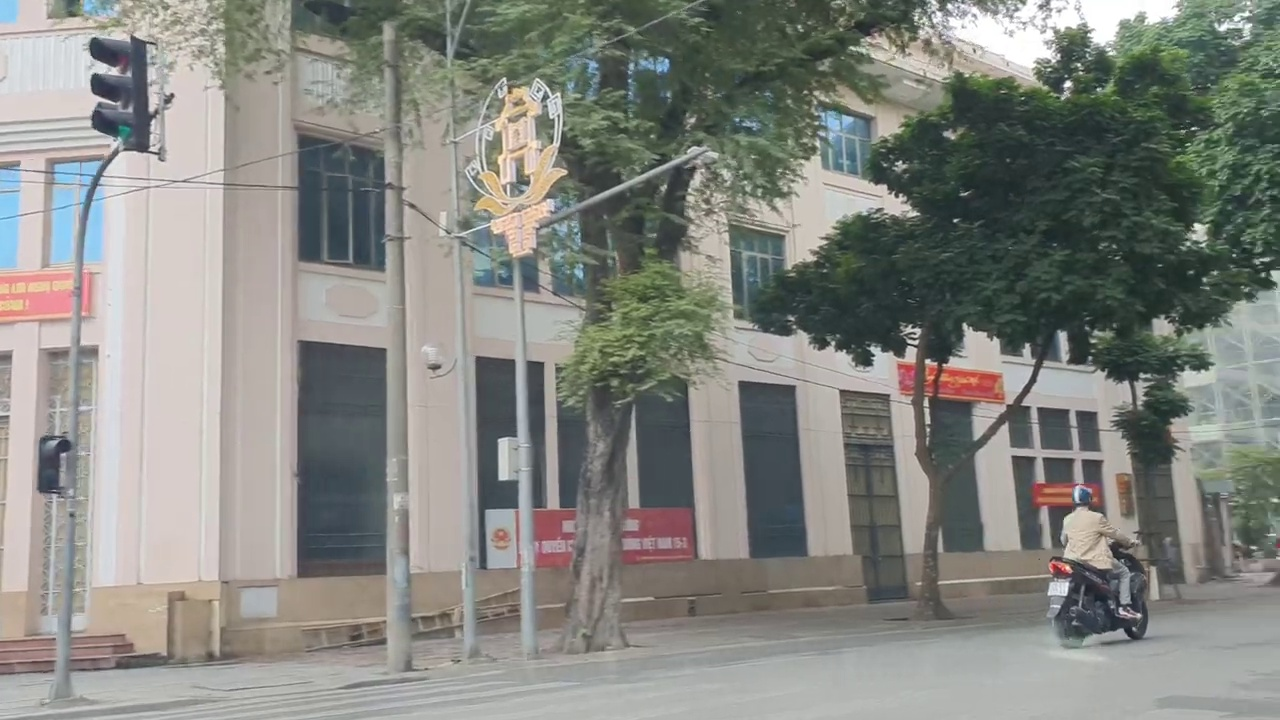person: (1044, 577, 1072, 596)
